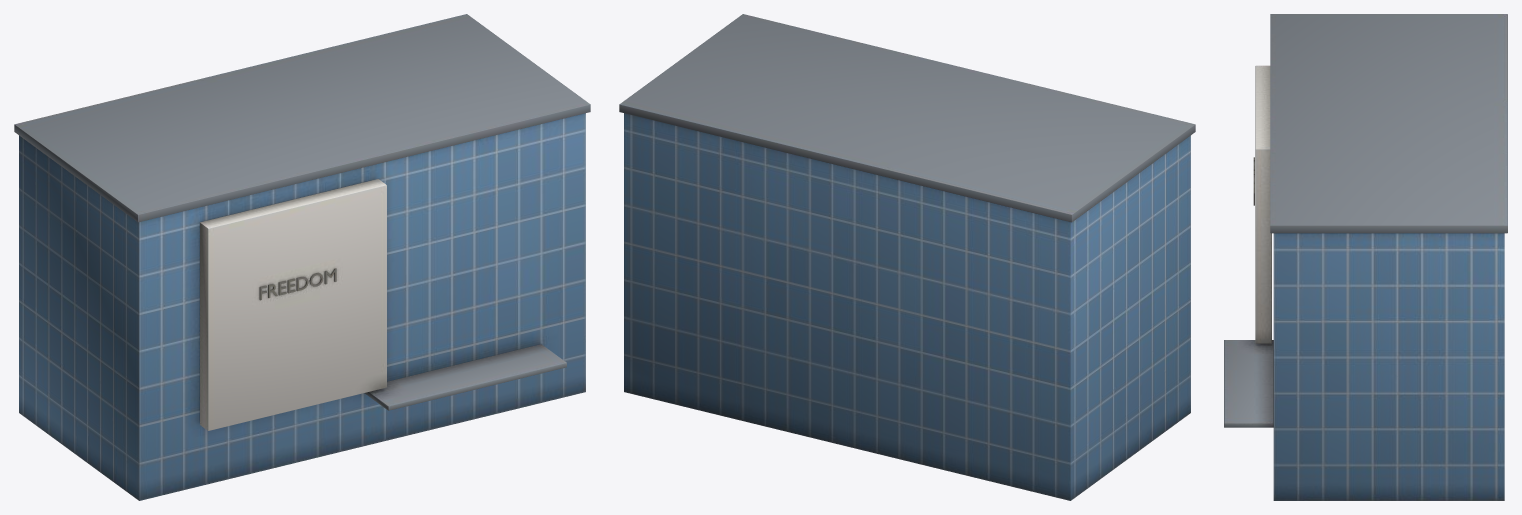
File: cristal.glb
3 views of the same model, side by side, from view 1: azimuth 30°, elevation 25°; view 2: azimuth 150°, elevation 25°; view 3: azimuth 270°, elevation 25° (orthographic). The views are drawn at different scales.
Parts seen in each view (by area): view 1: cristal; view 2: cristal; view 3: cristal.
Boxes of the visible parts, left/top/right/bottom form: cristal: left=14, top=14, right=590, bottom=500; cristal: left=619, top=14, right=1195, bottom=500; cristal: left=1224, top=14, right=1507, bottom=500.
Bounding box in the file's own units: 30.4 × 18.5 × 17.2.
Materials: 1 (1 with a texture image).
